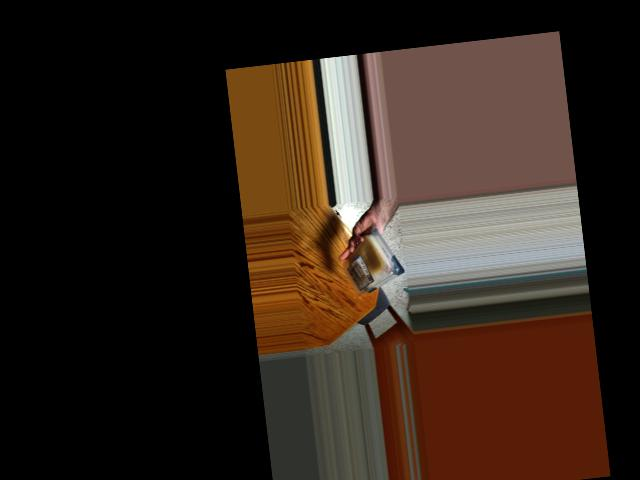cheese: (349, 224, 401, 296)
